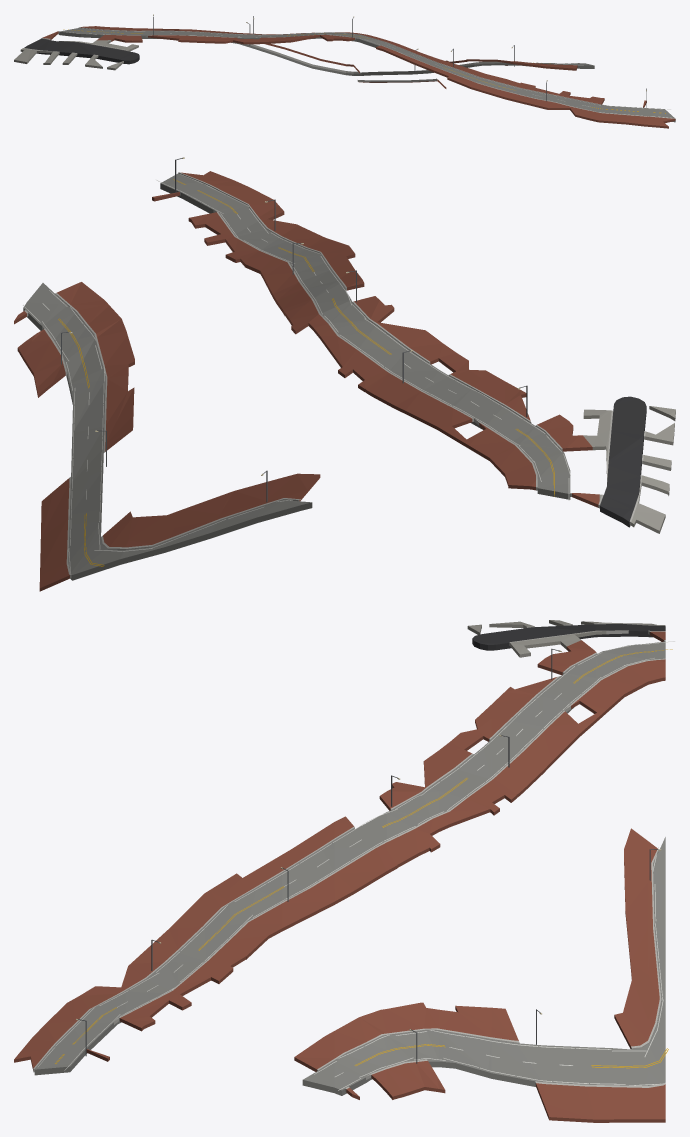
3 renders of one model, top to bottom at view 1: azimuth 30°, elevation 25°; view 2: azimuth 150°, elevation 25°; view 3: azimuth 270°, elevation 25°, orthographic. The views are drawn at different scales.
Size of the model in its own units: 175 by 56.21 by 127.
